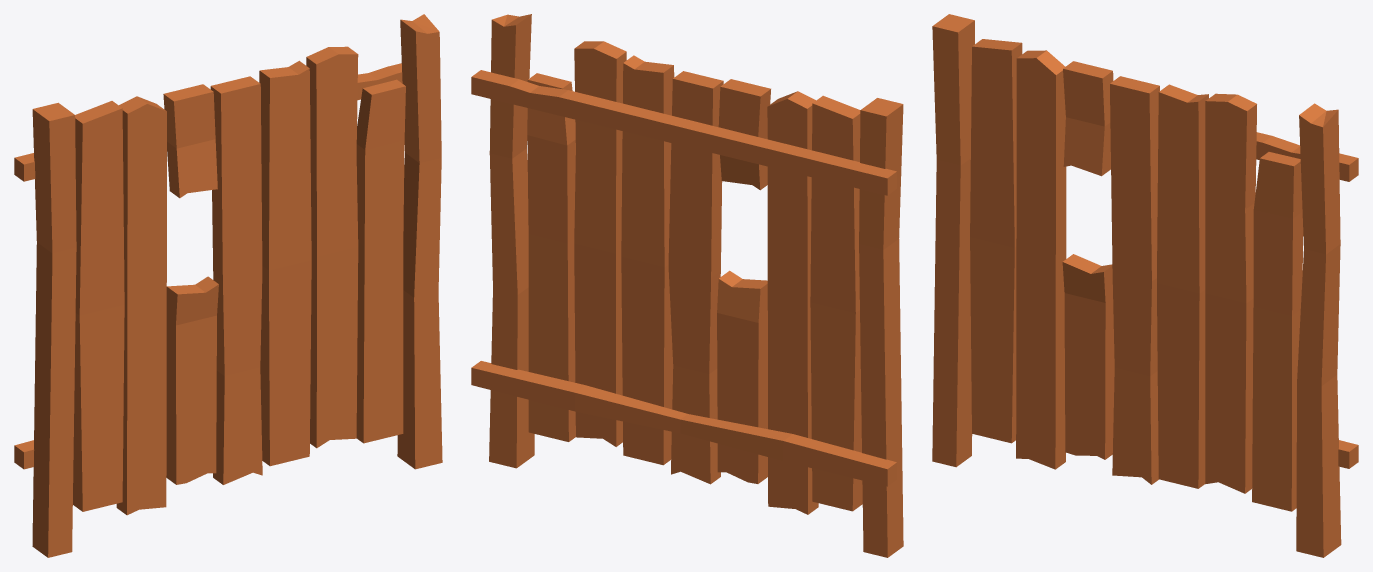
Rendered from Wood Fence 5.glb.
3 renders of one model, left to right at view 1: azimuth 30°, elevation 25°; view 2: azimuth 150°, elevation 25°; view 3: azimuth 330°, elevation 25°, orthographic.
Parts seen in each view (by area): view 1: WoodFence5; view 2: WoodFence5; view 3: WoodFence5.
Boxes of the visible parts, <box> form: WoodFence5: <box>14,14,442,557</box>; WoodFence5: <box>471,14,903,557</box>; WoodFence5: <box>932,14,1358,557</box>.
Size of the model in its own units: 2 by 2.03 by 0.2208.
